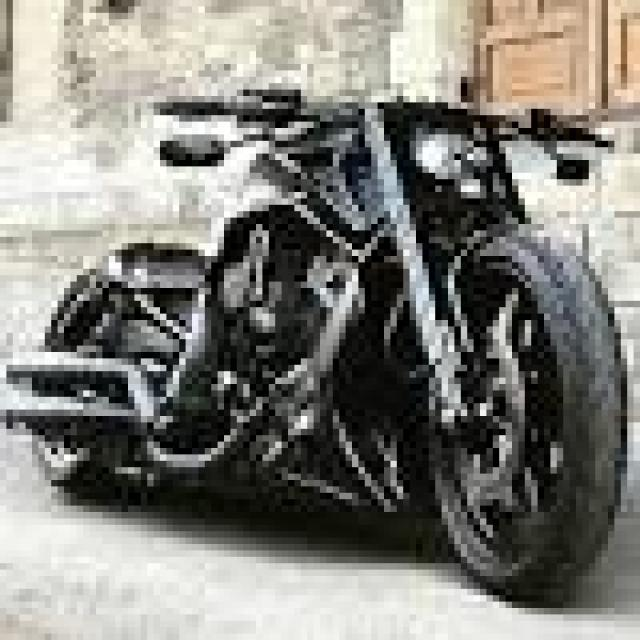Bike: (4, 80, 628, 600)
